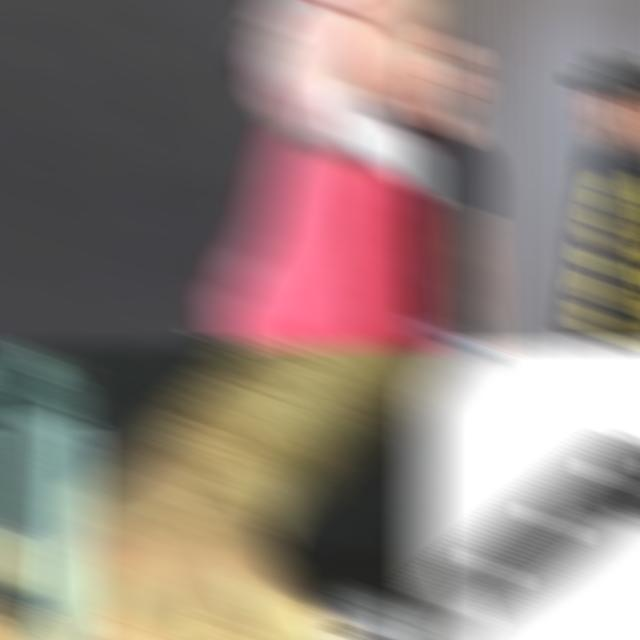Knife: (412, 439, 640, 640), (4, 342, 91, 640), (310, 84, 432, 230)
Knife_Handle: (242, 0, 432, 230)
